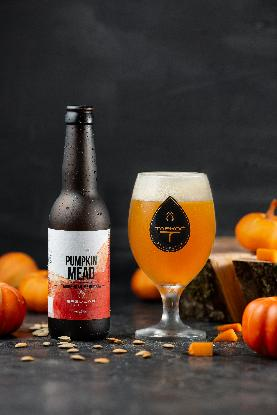Glass Bottle: (48, 105, 110, 341)
